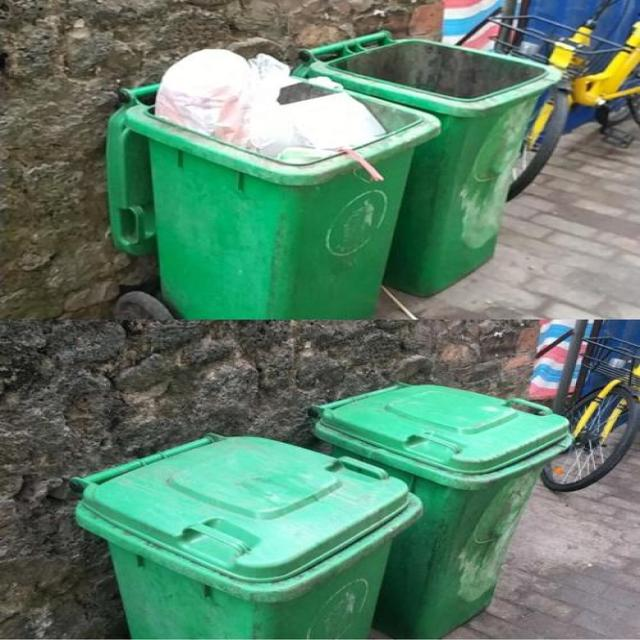garbage_bin: (68, 432, 421, 639), (296, 30, 562, 297), (307, 382, 575, 639)
overflow: (109, 49, 438, 318)
